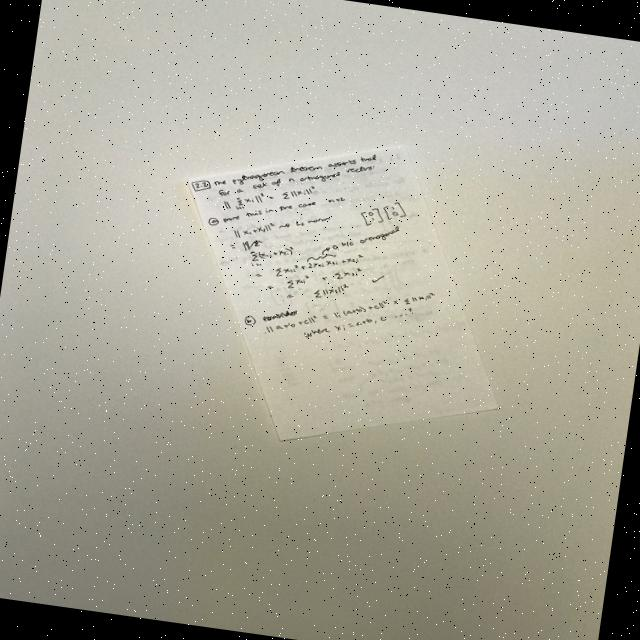paper: (151, 114, 535, 472)
